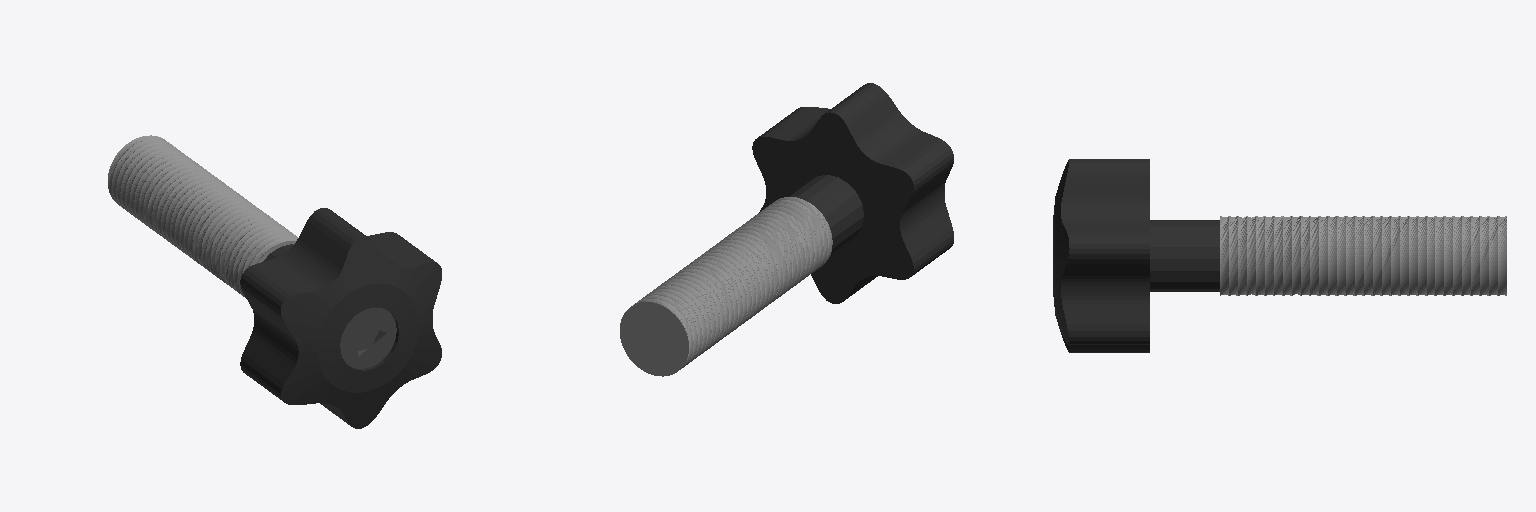
File: press_screw_front.obj
3 renders of one model, left to right at view 1: azimuth 30°, elevation 25°; view 2: azimuth 150°, elevation 25°; view 3: azimuth 270°, elevation 25°, orthographic.
Parts seen in each view (by area): view 1: press_screw_front, press_screw_front_02, press_screw_front_01; view 2: press_screw_front, press_screw_front_02; view 3: press_screw_front, press_screw_front_02.
Boxes of the visible parts, x1=… form: press_screw_front: x1=240, y1=208, x2=441, y2=428; press_screw_front_02: x1=108, y1=135, x2=297, y2=297; press_screw_front_01: x1=340, y1=307, x2=396, y2=368; press_screw_front: x1=752, y1=83, x2=953, y2=303; press_screw_front_02: x1=620, y1=197, x2=832, y2=376; press_screw_front: x1=1053, y1=159, x2=1219, y2=352; press_screw_front_02: x1=1220, y1=216, x2=1506, y2=295.
Size of the model in its own units: 25.62 by 28.9 by 62.35.